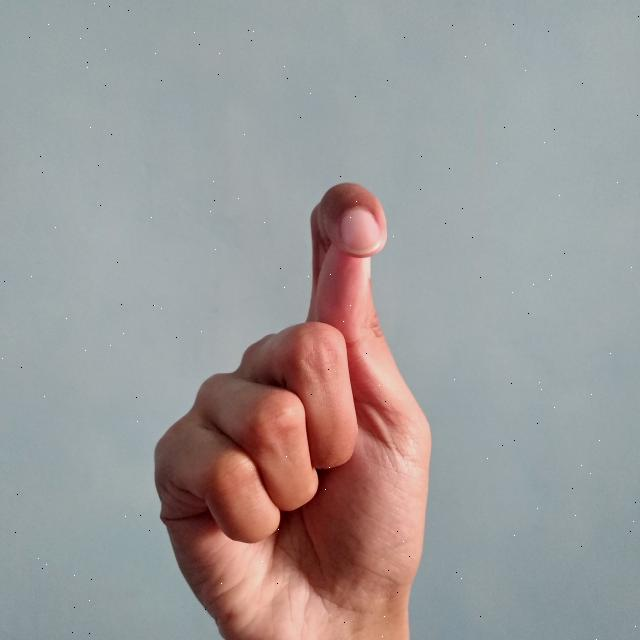T: (149, 177, 445, 640)
